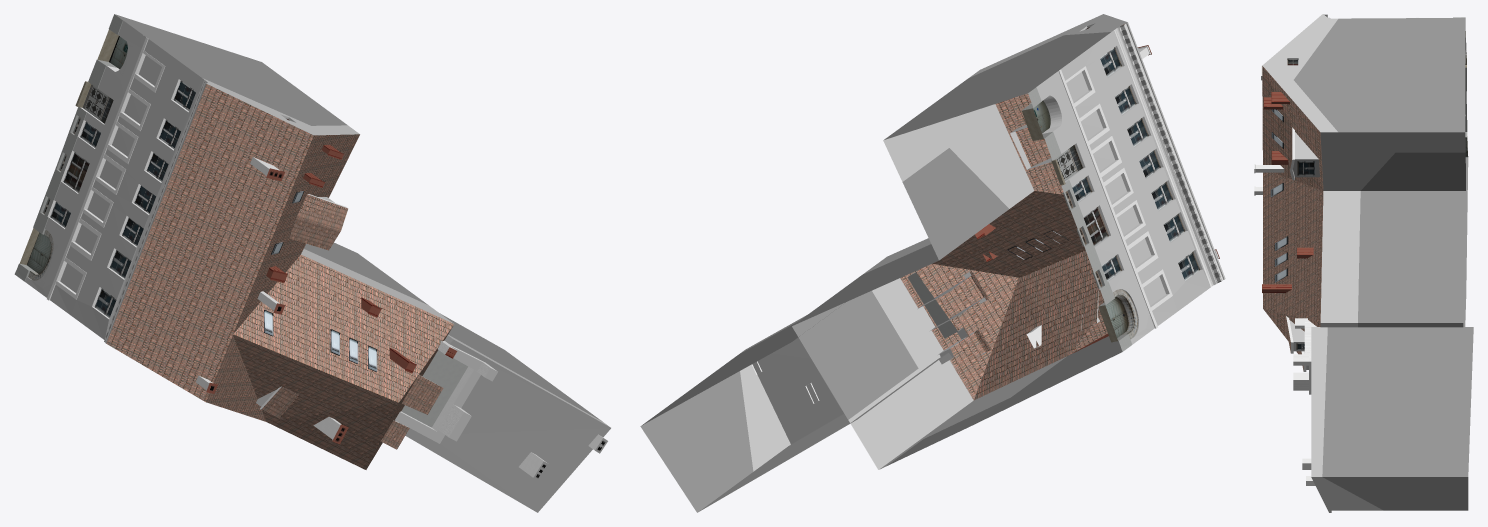
Rendered from Lai-32.obj.
The picture shows the model from 3 angles, left to right: view 1: azimuth 30°, elevation 25°; view 2: azimuth 150°, elevation 25°; view 3: azimuth 270°, elevation 25°; orthographic projection. The views are drawn at different scales.
Parts seen in each view (by area): view 1: Lai_32; view 2: Lai_32; view 3: Lai_32.
Part boxes in pixels (x1,y1,x2,y2): Lai_32: (14,14,610,512); Lai_32: (640,14,1225,512); Lai_32: (1254,14,1473,512).
Size of the model in its own units: 34.11 by 33.74 by 17.73.
